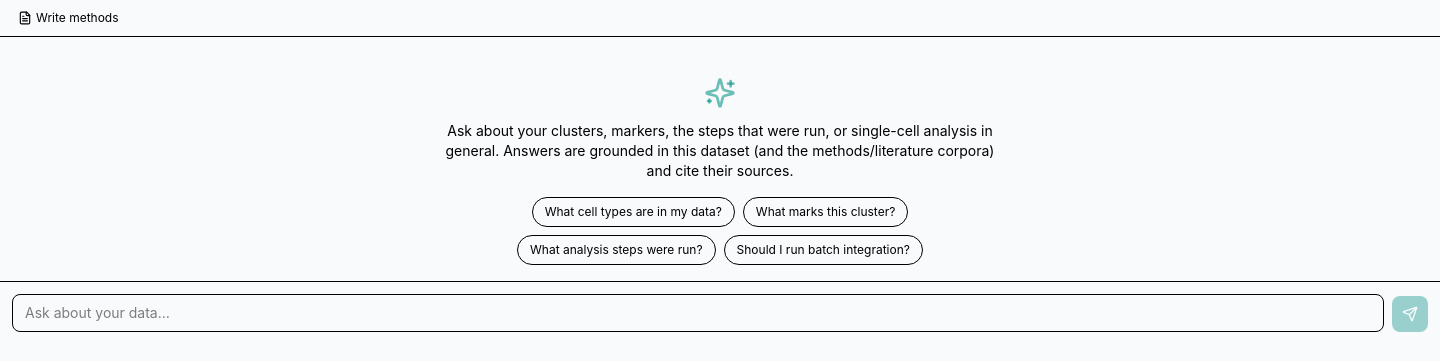
Scenario: co-pilot plans › says which step failed and why
Type "color by stim, then detect doublets" into the text box named "Message to the co-pilot" at (698, 313), box [12,294,1384,332]
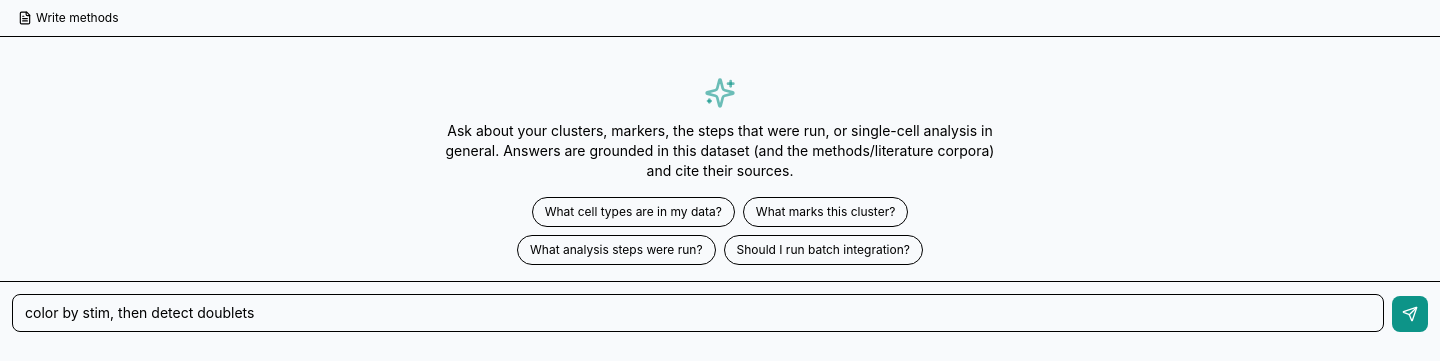
Click the button named "Send" at (1410, 314), box [1392,296,1428,332]
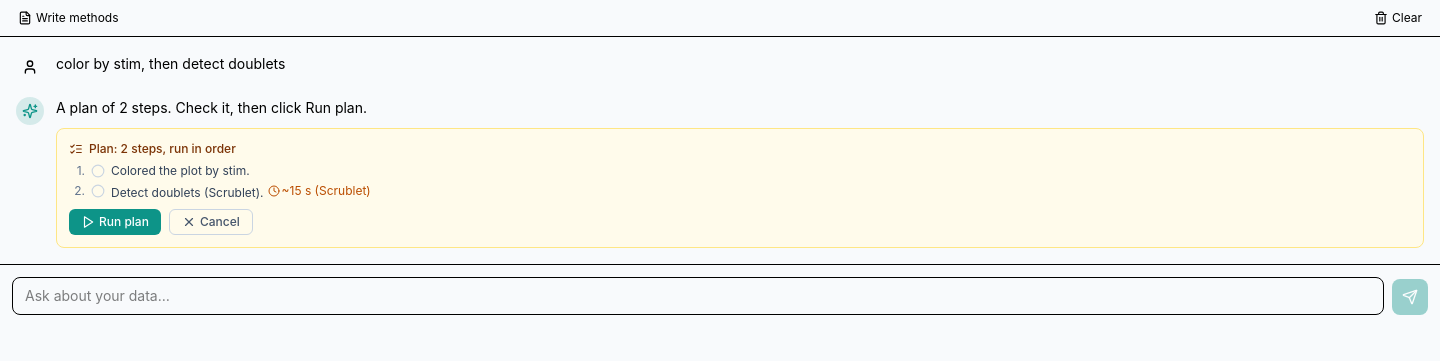
Click the button "Run plan" at (115, 222), box [69,209,161,235]
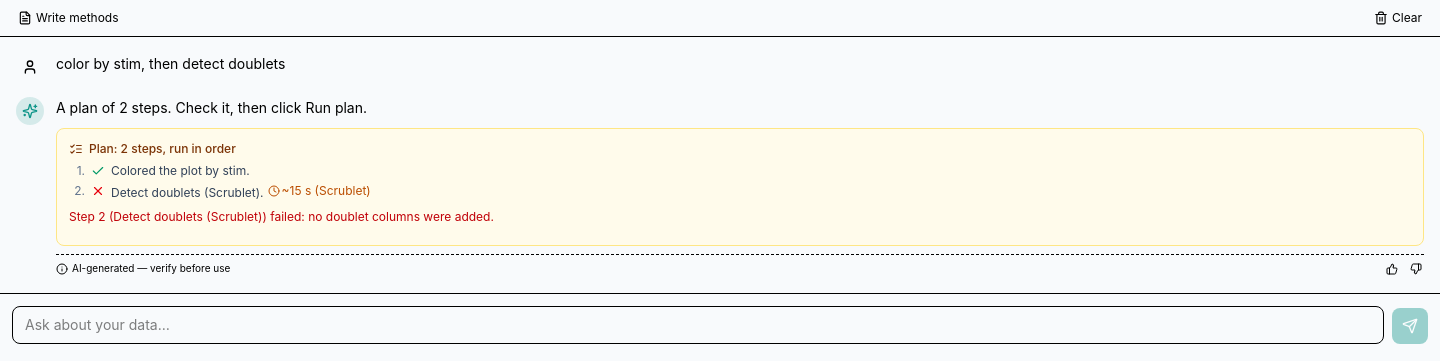
Now the message reads "Step 2 (Detect doublets (Scrublet)) failed: no doublet columns were added.", box [69,209,494,224]
